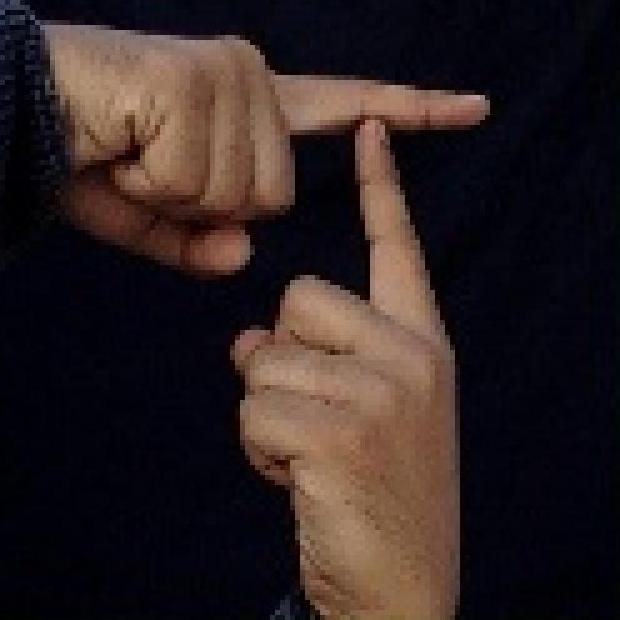S: (98, 14, 501, 577)
